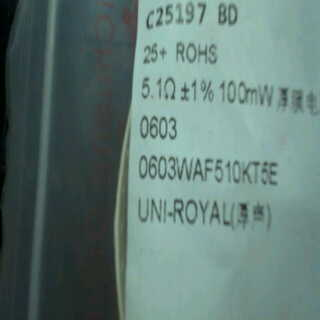5.1R: (141, 73, 174, 103)
